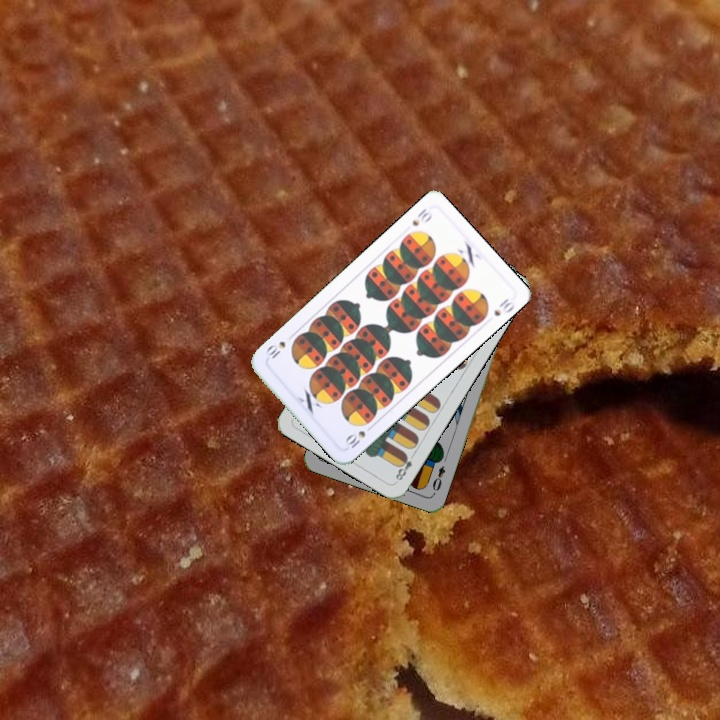E8: (391, 448, 418, 483)
EO: (428, 462, 448, 497)
S10: (341, 420, 376, 451), (408, 204, 435, 229)
